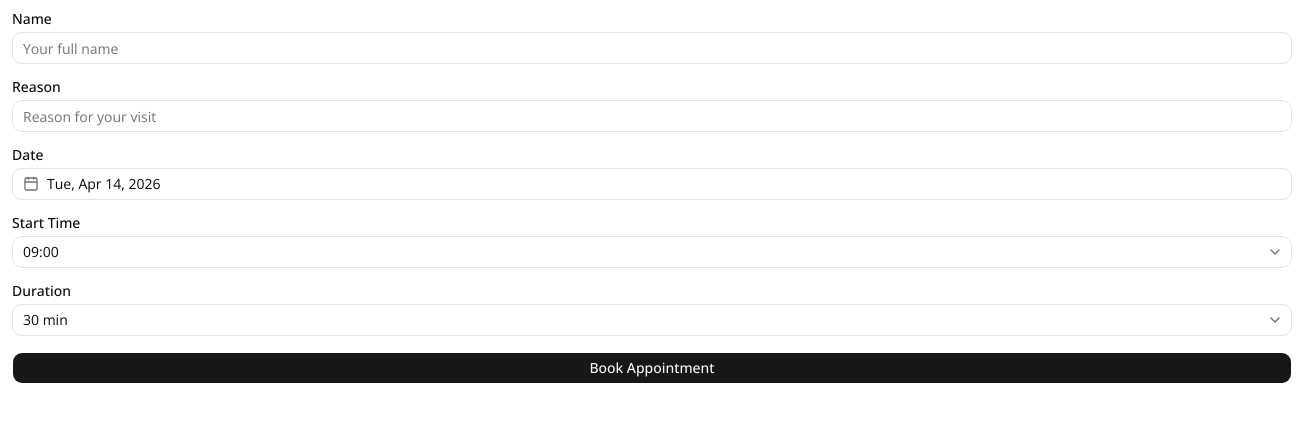
Test: BookingForm › create mode (no booking prop) › validation › shows reason field error when reason is empty on submit
The width and height of the screenshot is (1304, 426).
Type "John Smith" into the field labelled "Name". click: (652, 48)
box: [12, 32, 1292, 64]
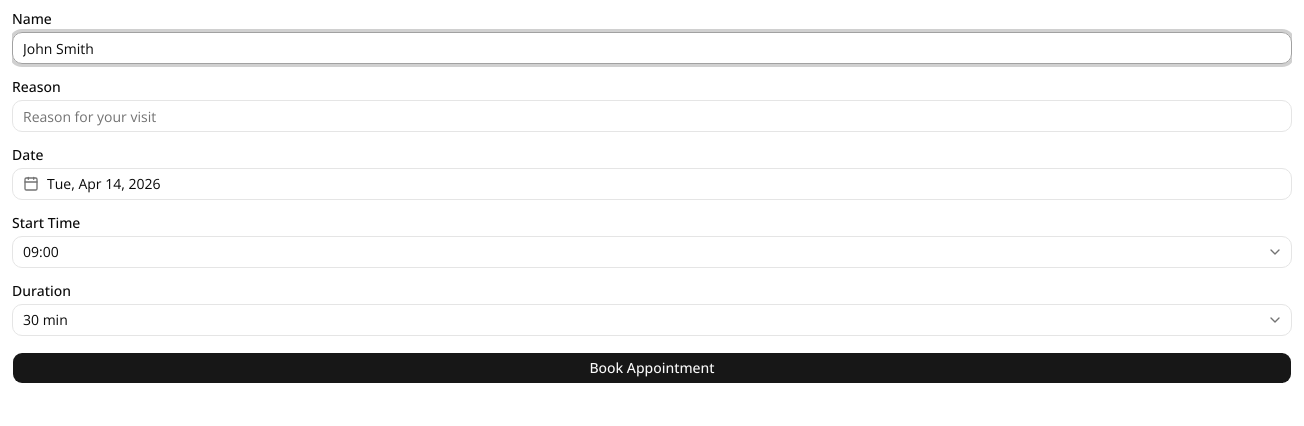
Click the button "Book Appointment". click: (652, 368)
box: [12, 352, 1292, 384]
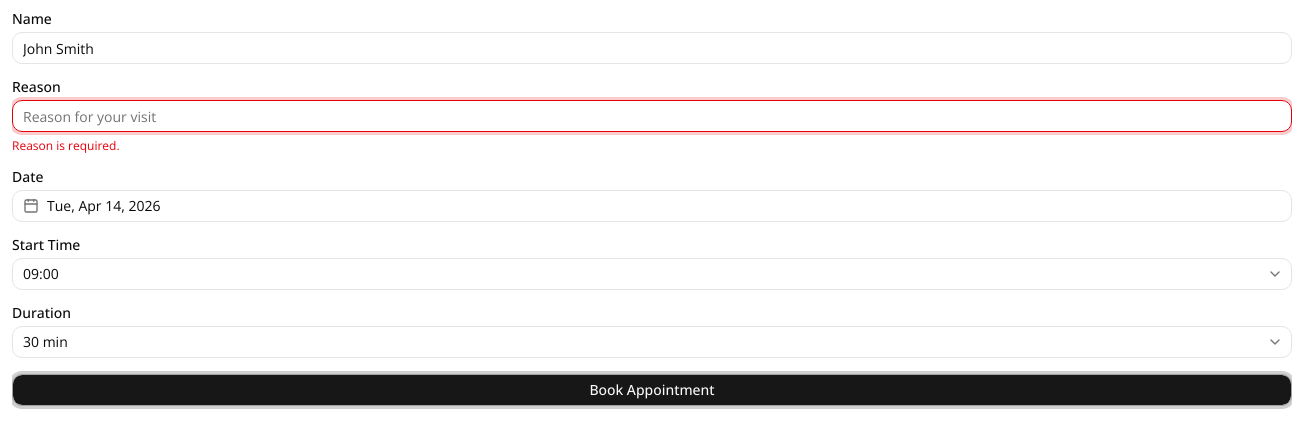
Expected: the message reads "Reason is required.", [12, 137, 120, 154]
